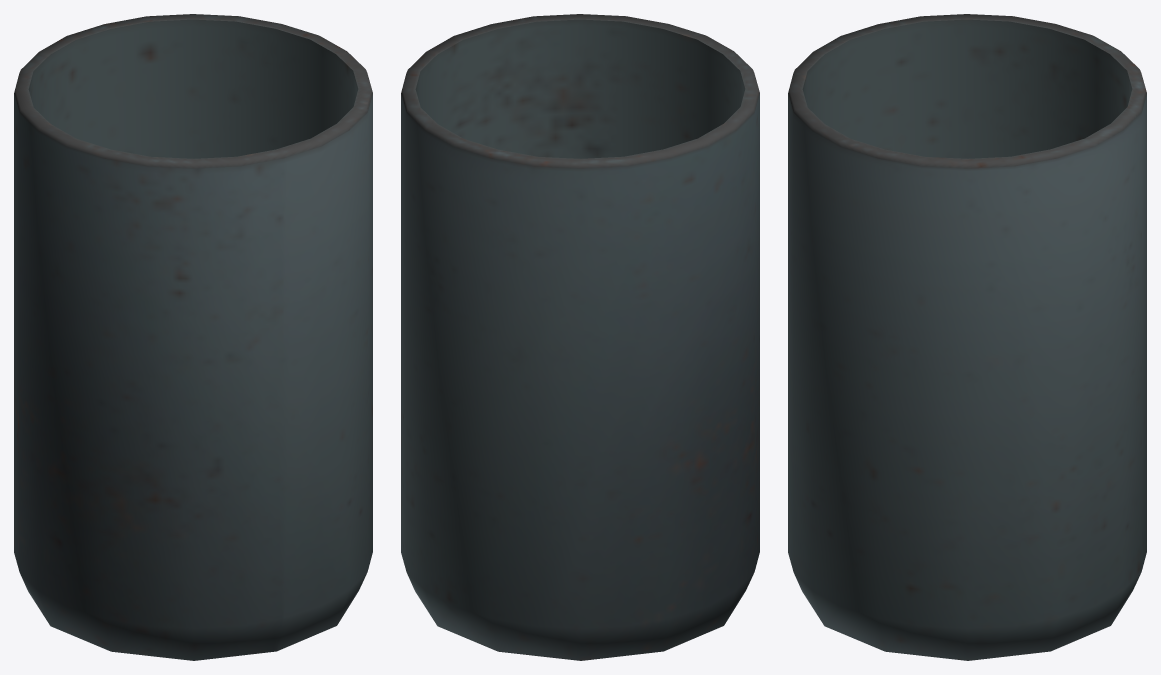
Rendered from sb_obj_indoor001_OldKitchen_Cup.fbx.
3 views of the same model, side by side, from view 1: azimuth 30°, elevation 25°; view 2: azimuth 150°, elevation 25°; view 3: azimuth 270°, elevation 25° (orthographic).
Parts seen in each view (by area): view 1: sb_obj_indoor001_OldKitchen_Cup; view 2: sb_obj_indoor001_OldKitchen_Cup; view 3: sb_obj_indoor001_OldKitchen_Cup.
Boxes of the visible parts, x1,y1,x2,y2 form: sb_obj_indoor001_OldKitchen_Cup: (14, 14, 372, 660); sb_obj_indoor001_OldKitchen_Cup: (401, 14, 759, 660); sb_obj_indoor001_OldKitchen_Cup: (788, 14, 1146, 660).
Size of the model in its own units: 0.0945 by 0.1458 by 0.0945.
